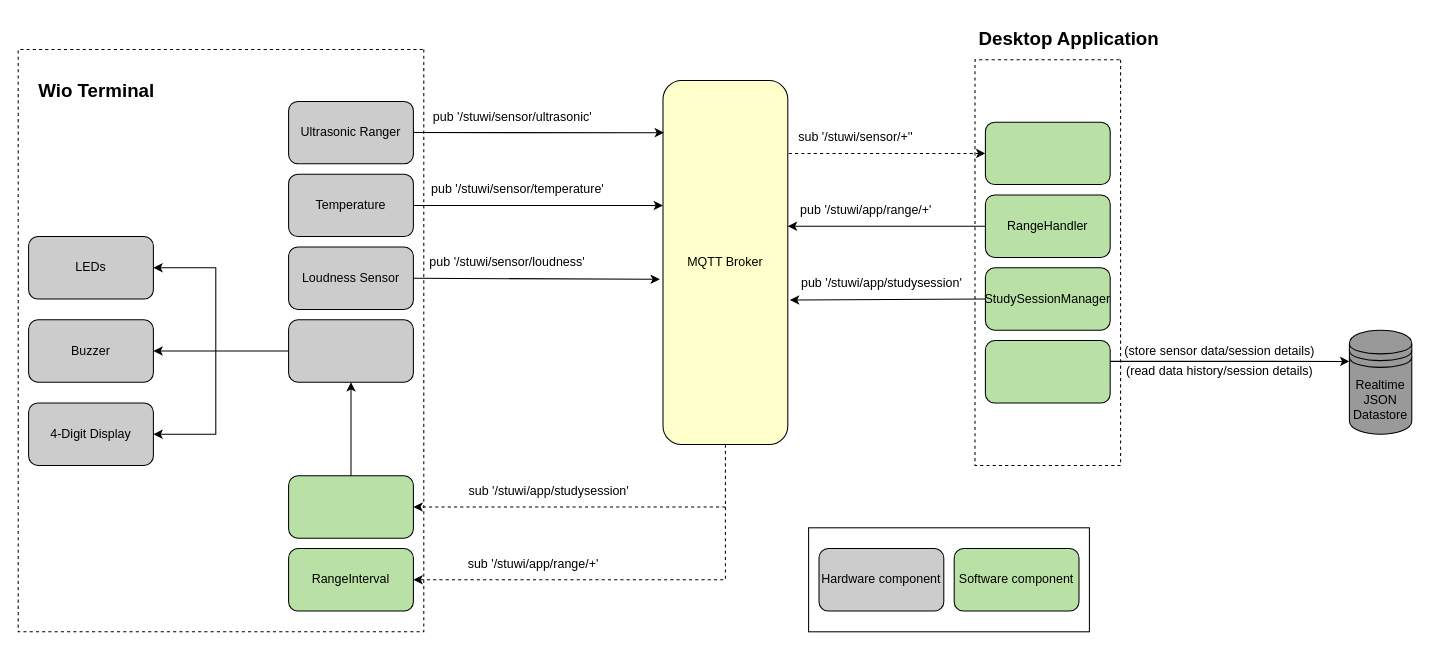
The diagram is 1430 pixels wide and 651 high, and some of its shapes have lost their labels. The shapes that lost their labels are listed below. From the top down, each one's centre as x and y in pixels, then its label:
At point (1047, 153): "SensorDataHandler".
At point (350, 350): "Real-Time-Clock".
At point (1047, 371): "StorageHandler".
At point (350, 506): "StudySessionDetails".
